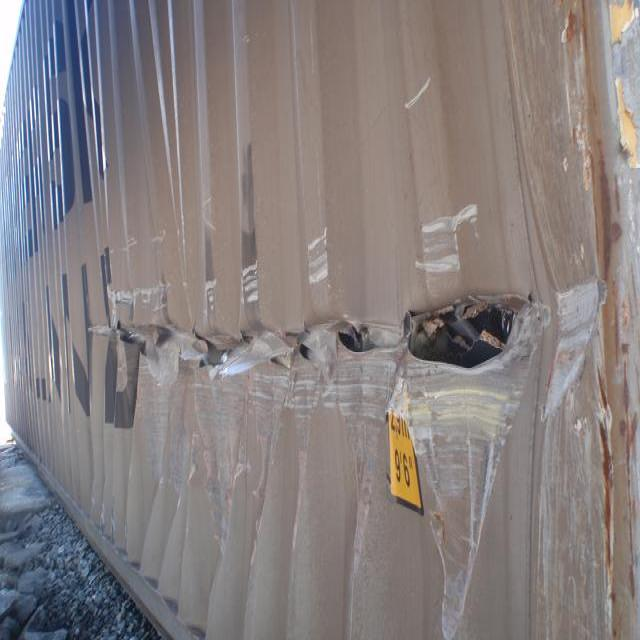dent: (510, 1, 640, 640), (112, 385, 283, 561)
